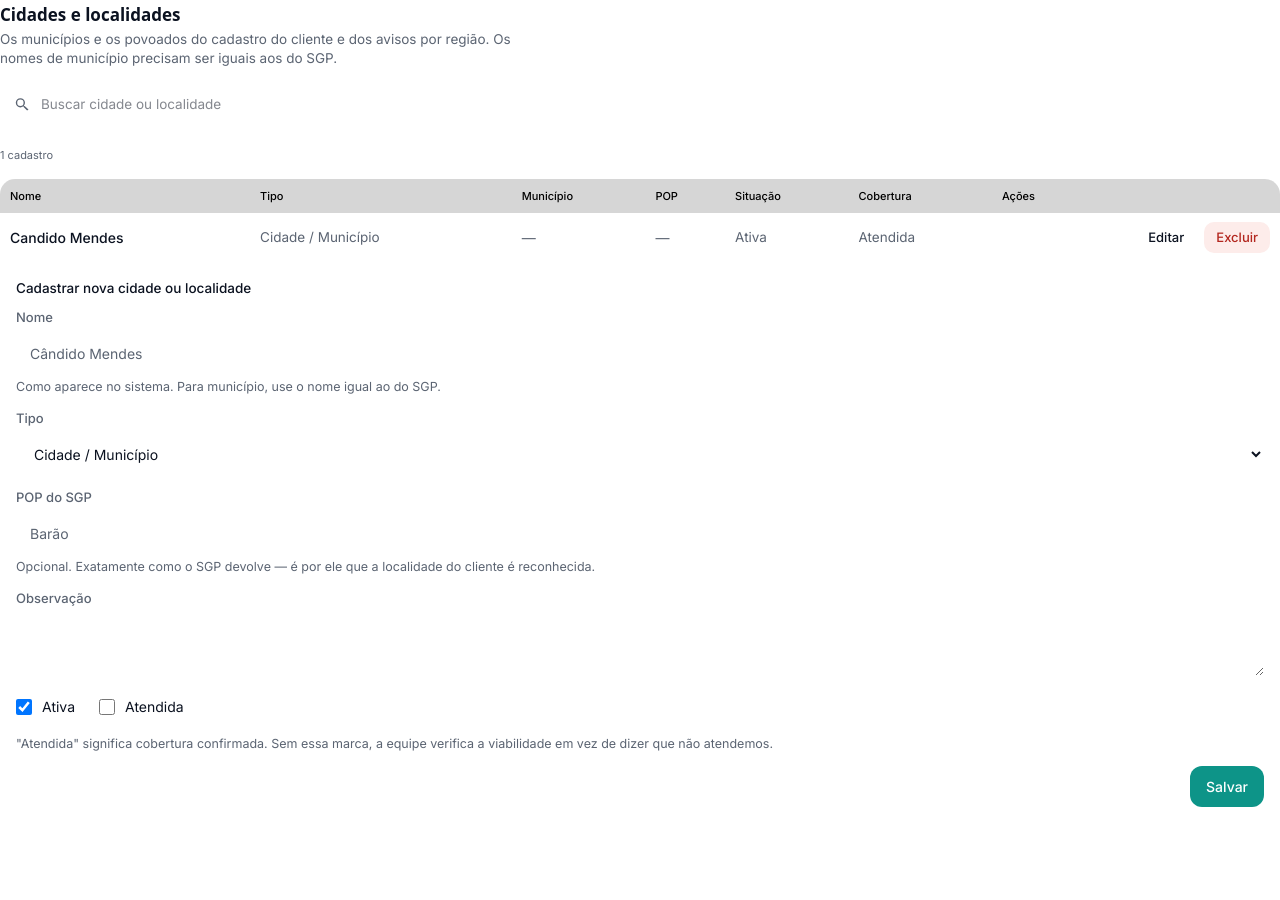
Scenario: CitiesAdminTab — lugares › o 409 de excluir municipio com filha vira mensagem legivel
Click the button "Excluir" at (1237, 237), box [1204, 222, 1270, 253]
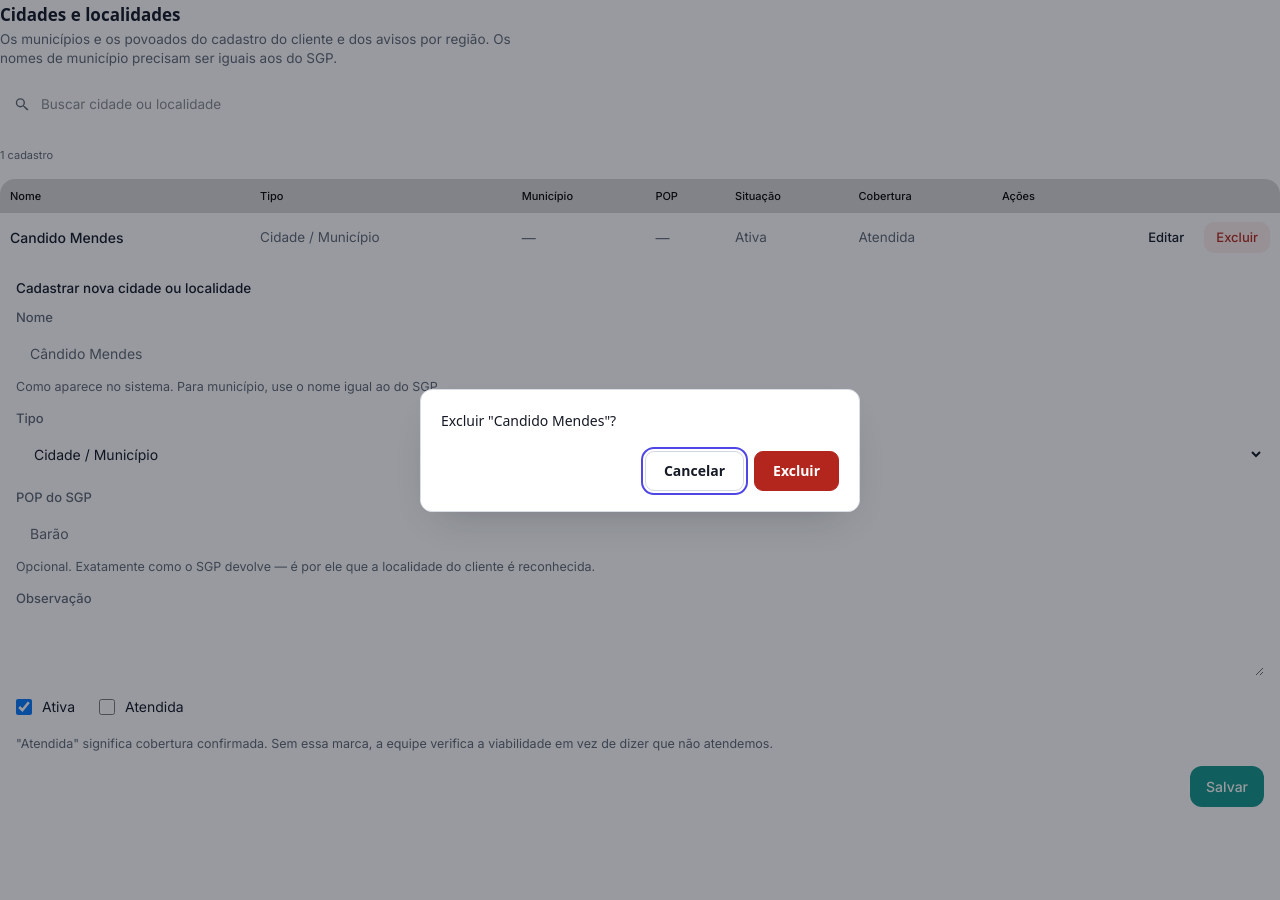
Click the button "Excluir" at (796, 470), box [754, 450, 839, 490]
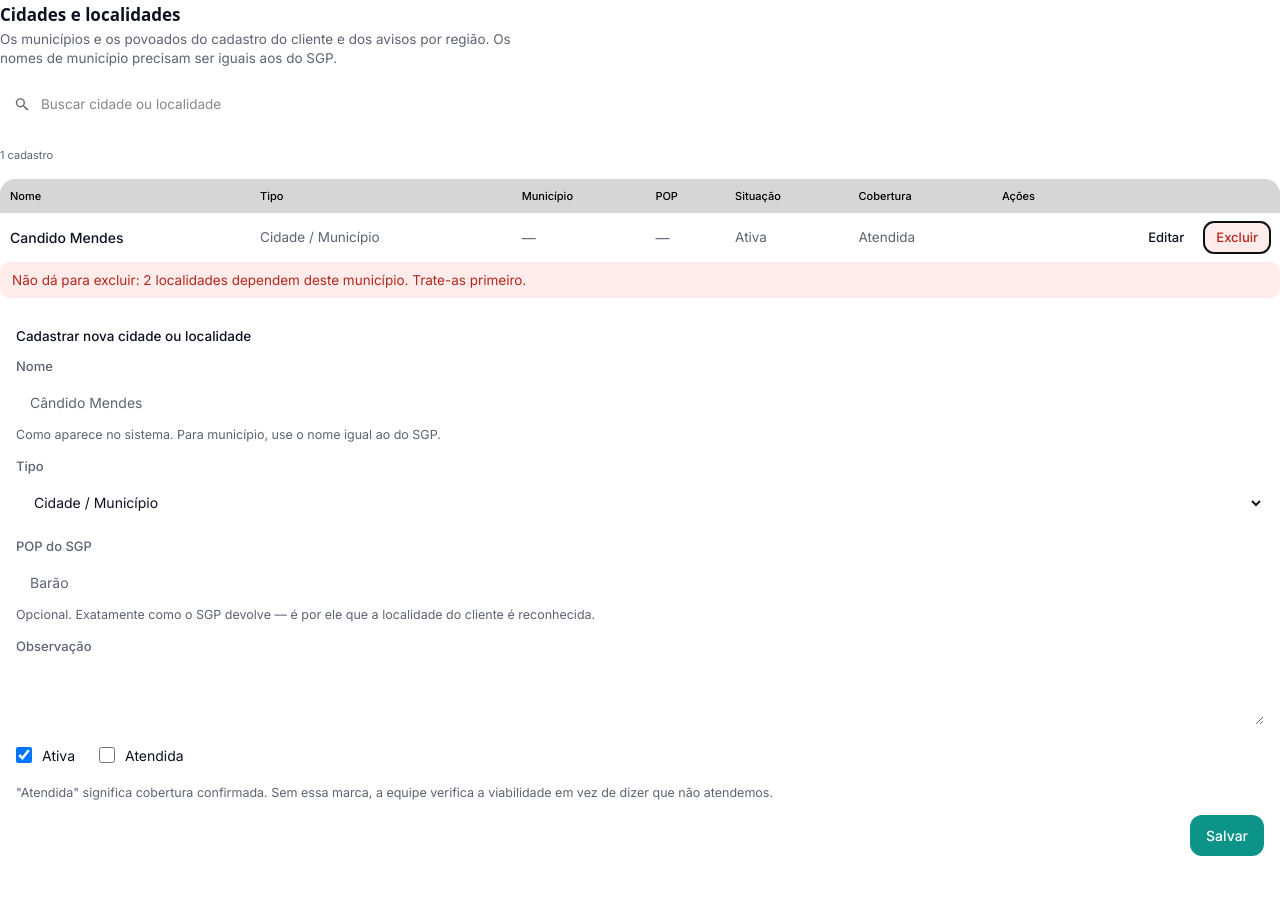
Now the text "2 localidades" is shown, box [12, 272, 526, 288]
